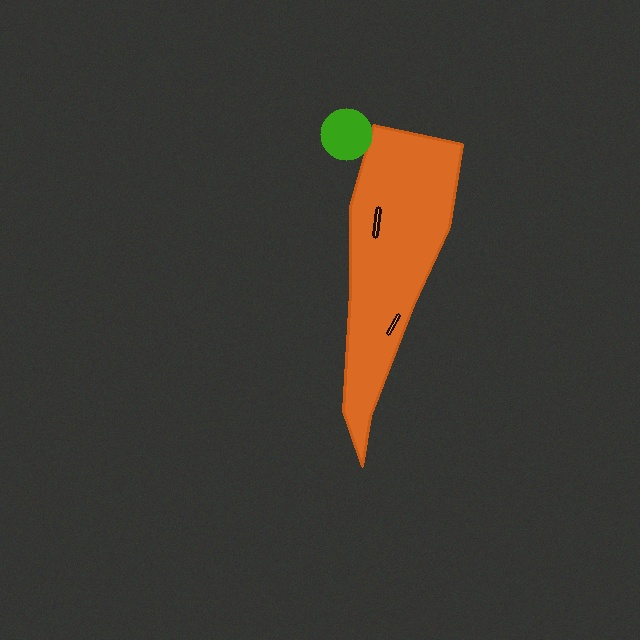Damaged_Carrot: (335, 117, 470, 474)
